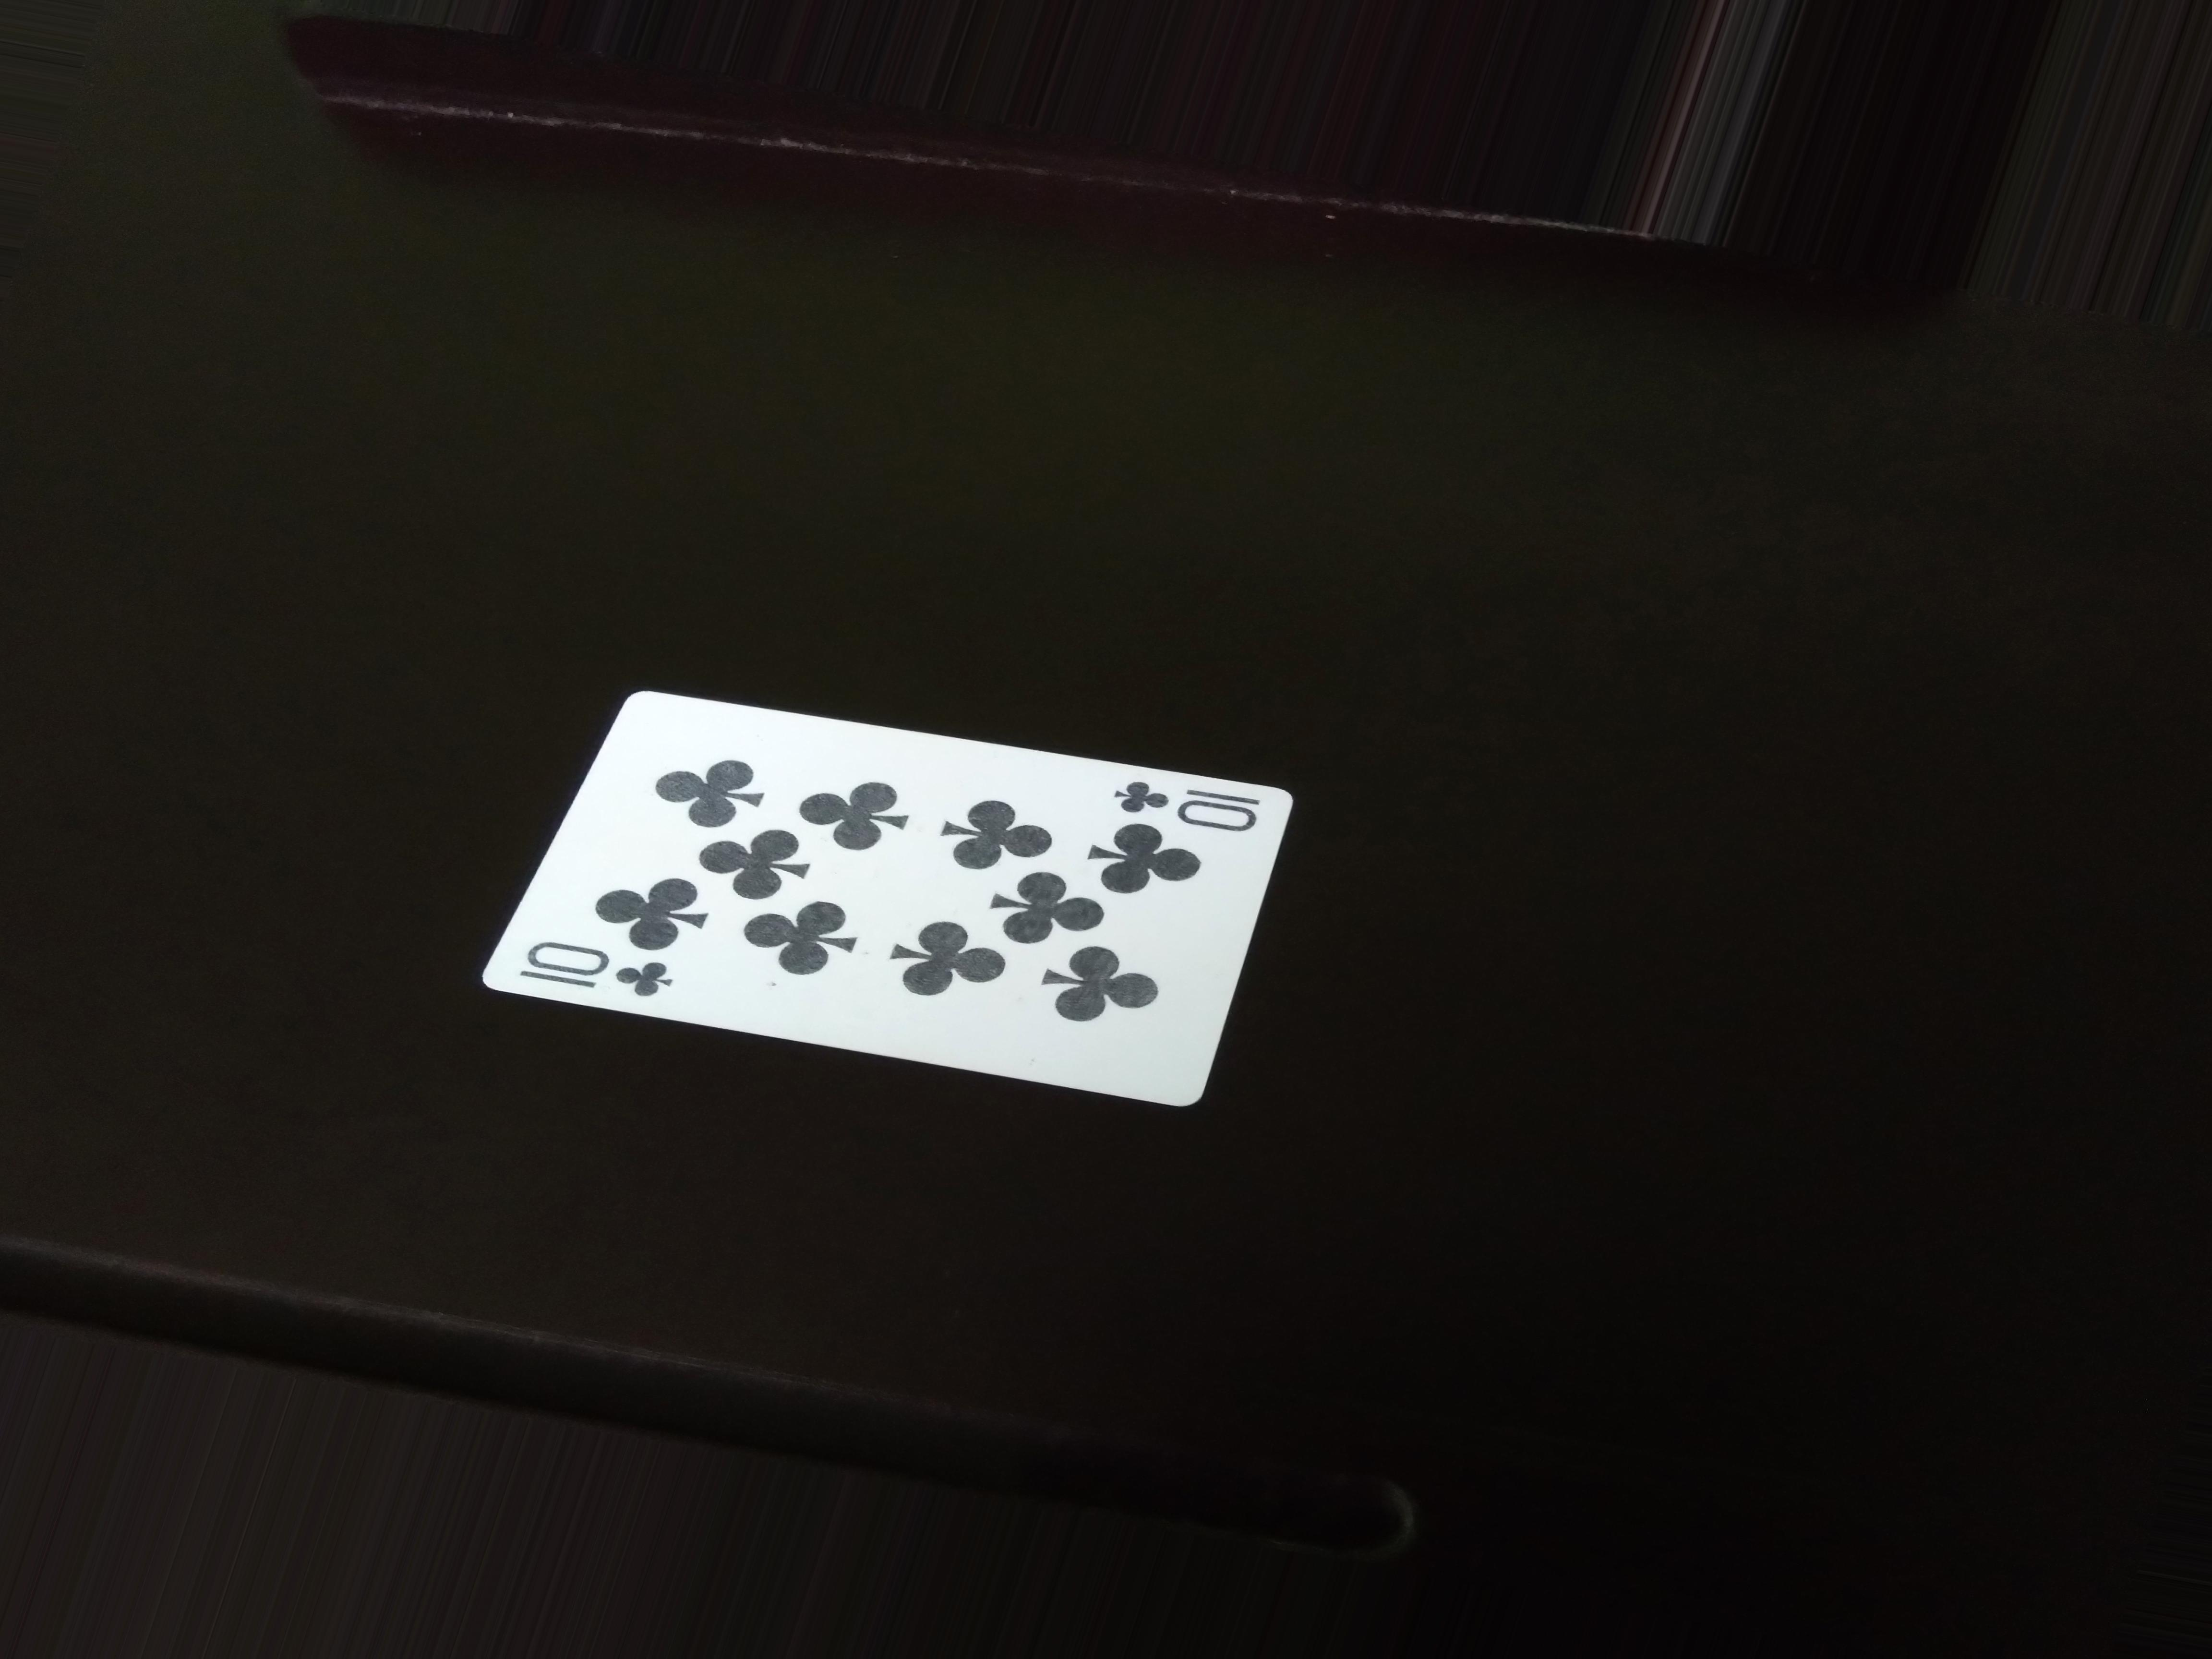10C: (503, 929, 676, 1006)
